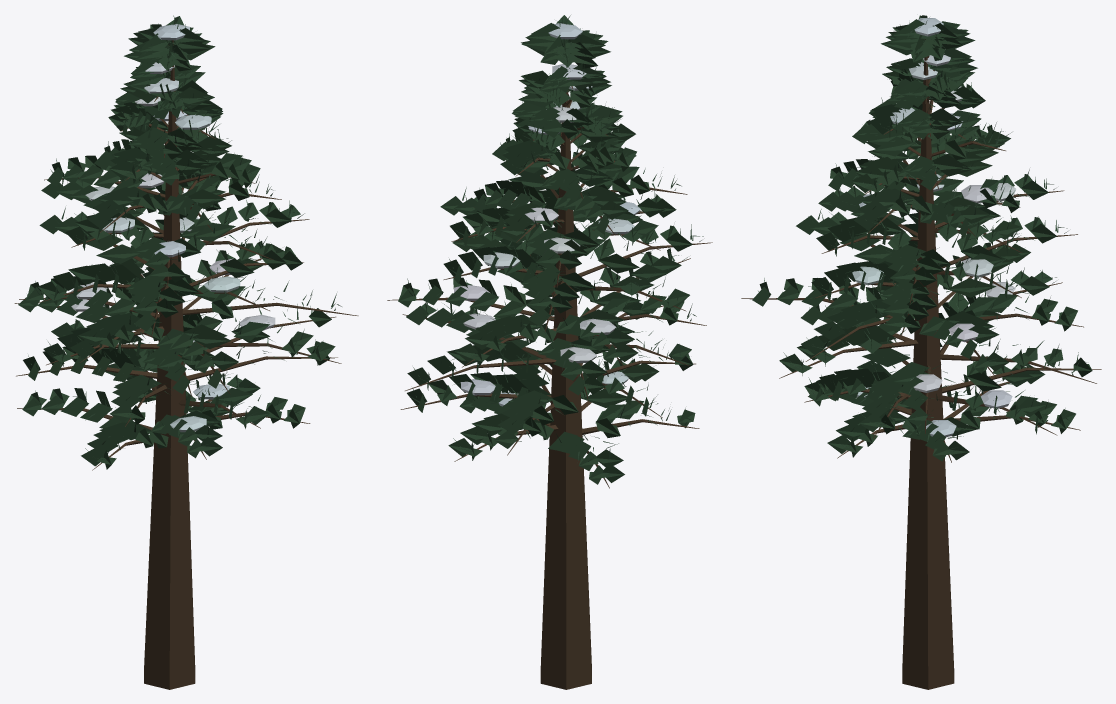
Rendered from pc_pine_1_lod1.glb.
3 renders of one model, left to right at view 1: azimuth 30°, elevation 25°; view 2: azimuth 150°, elevation 25°; view 3: azimuth 270°, elevation 25°, orthographic.
Visible parts, largest first — view 1: pc_pine_1_lod1; view 2: pc_pine_1_lod1; view 3: pc_pine_1_lod1.
Part boxes in pixels (bbox=[...]): pc_pine_1_lod1: bbox=[14, 15, 358, 689]; pc_pine_1_lod1: bbox=[387, 15, 712, 689]; pc_pine_1_lod1: bbox=[741, 15, 1101, 689].
Bounding box in the file's own units: 4.97 × 10.72 × 5.28.
